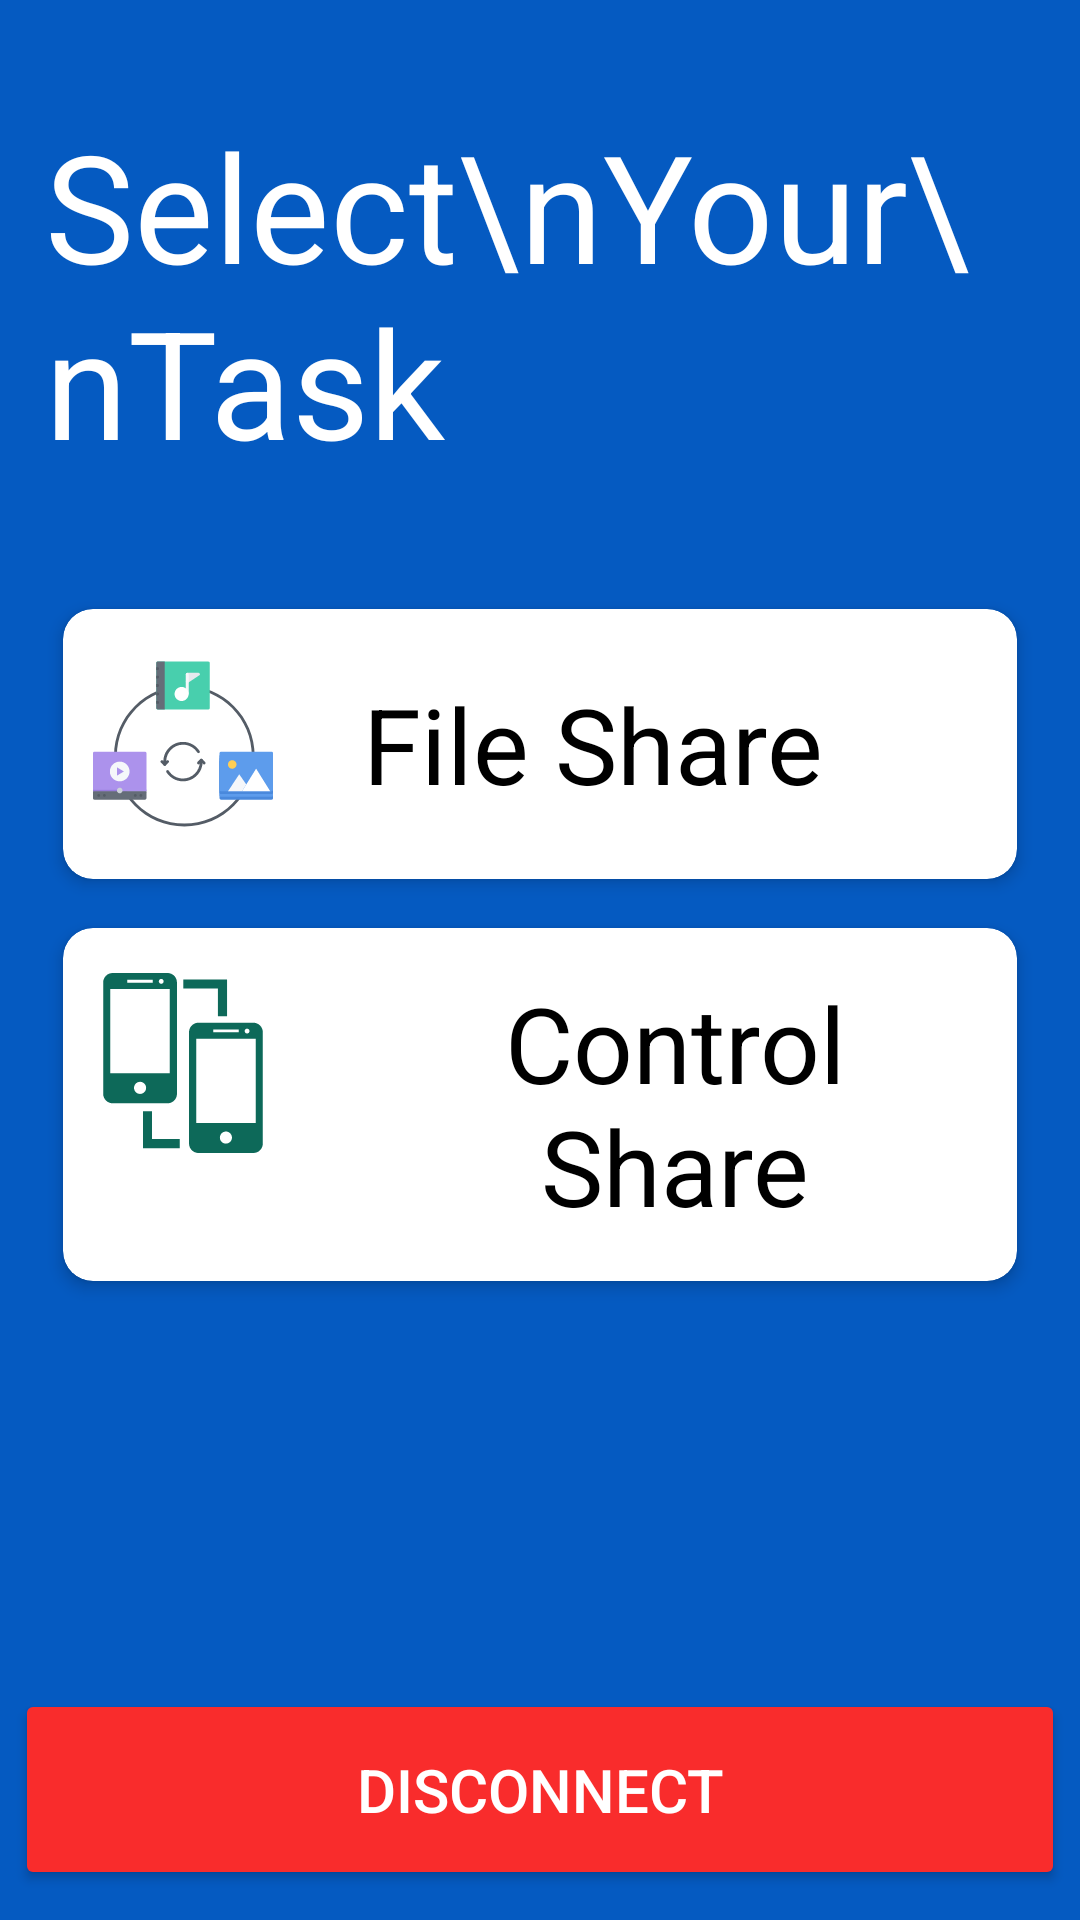

Named icons in this screenshot (1080px x 1920px) and their centers, [x,y]:
file sharing: [183,744]
